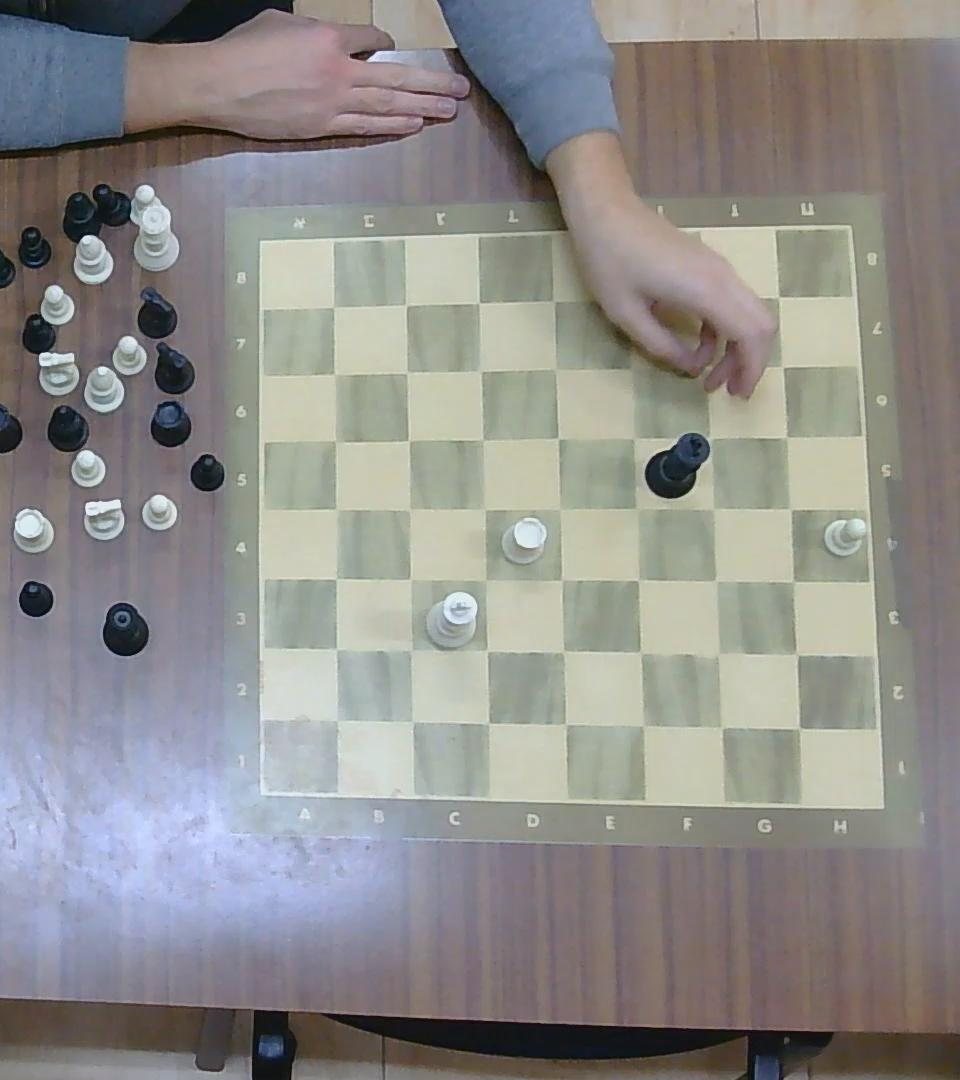xcorner: (703, 710, 737, 743), (702, 638, 734, 670), (626, 707, 657, 740), (625, 635, 656, 667), (471, 706, 502, 738), (548, 706, 579, 738), (547, 635, 578, 667), (396, 704, 427, 736), (470, 633, 501, 665), (320, 703, 351, 734), (470, 563, 501, 594), (781, 637, 812, 668), (394, 634, 426, 664), (622, 563, 652, 594), (783, 712, 813, 742), (700, 565, 730, 595), (320, 563, 350, 593), (548, 563, 577, 594), (469, 493, 499, 522), (622, 493, 652, 522), (699, 493, 728, 522), (319, 292, 348, 321), (391, 289, 420, 318), (321, 633, 350, 662), (395, 564, 424, 593), (777, 566, 806, 594), (547, 493, 575, 522), (465, 287, 493, 316), (540, 286, 568, 314), (776, 494, 805, 521), (769, 352, 798, 379), (395, 494, 423, 521), (467, 425, 495, 452), (607, 284, 633, 313), (322, 496, 350, 522), (695, 282, 720, 311), (546, 423, 572, 450), (773, 421, 799, 448), (467, 356, 493, 382), (697, 422, 723, 448), (543, 355, 570, 380), (618, 355, 645, 380), (693, 353, 720, 378), (622, 424, 648, 449), (766, 284, 792, 309), (394, 358, 420, 383), (322, 428, 348, 452), (322, 361, 348, 384), (396, 427, 420, 450)
